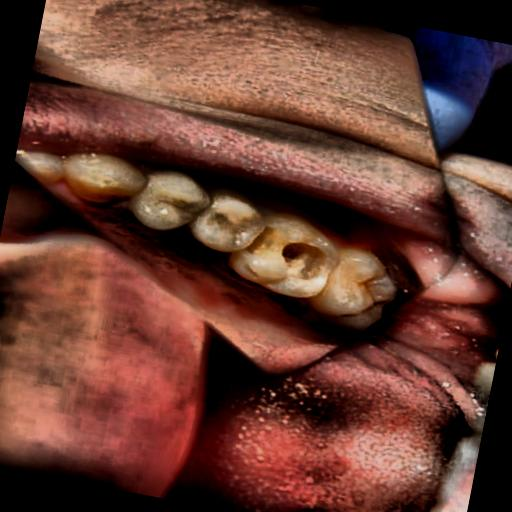Caries: (250, 198, 418, 328)
